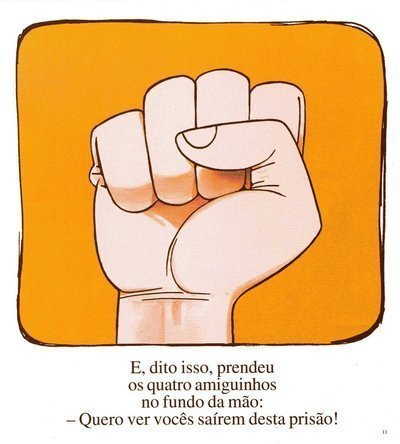closedhandfront: (77, 72, 325, 300)
